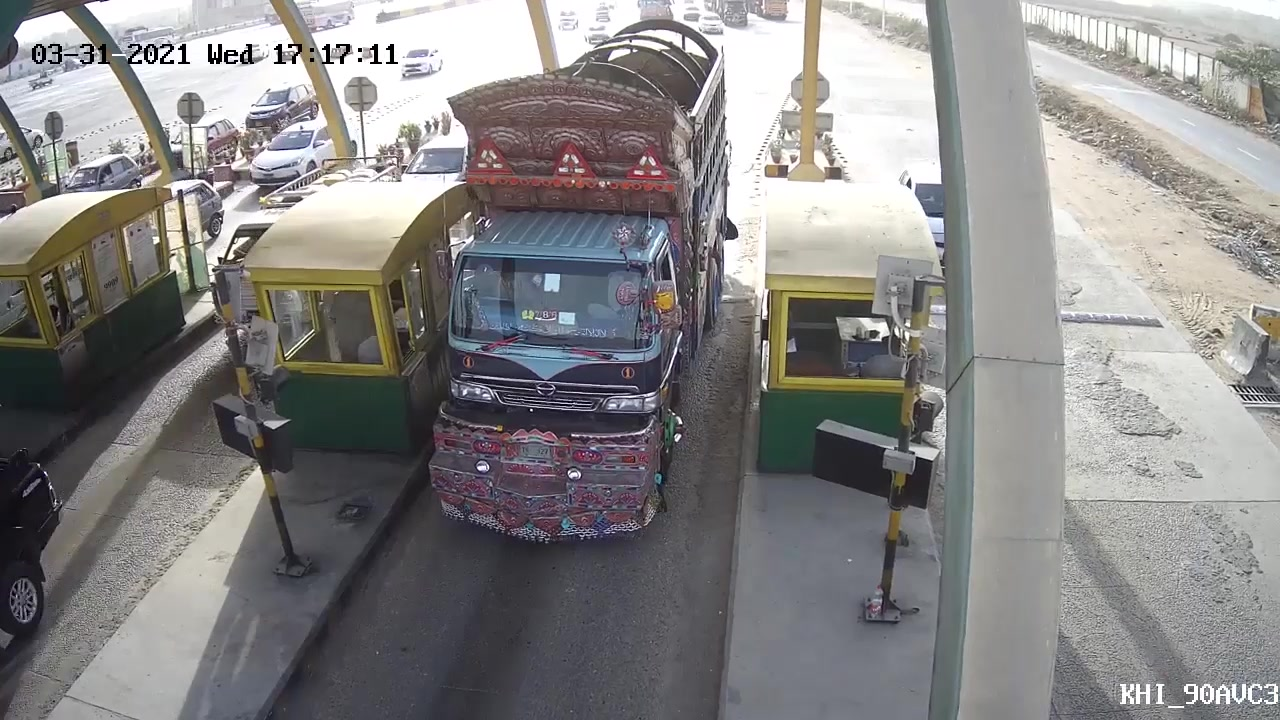F6: (422, 66, 696, 539)
